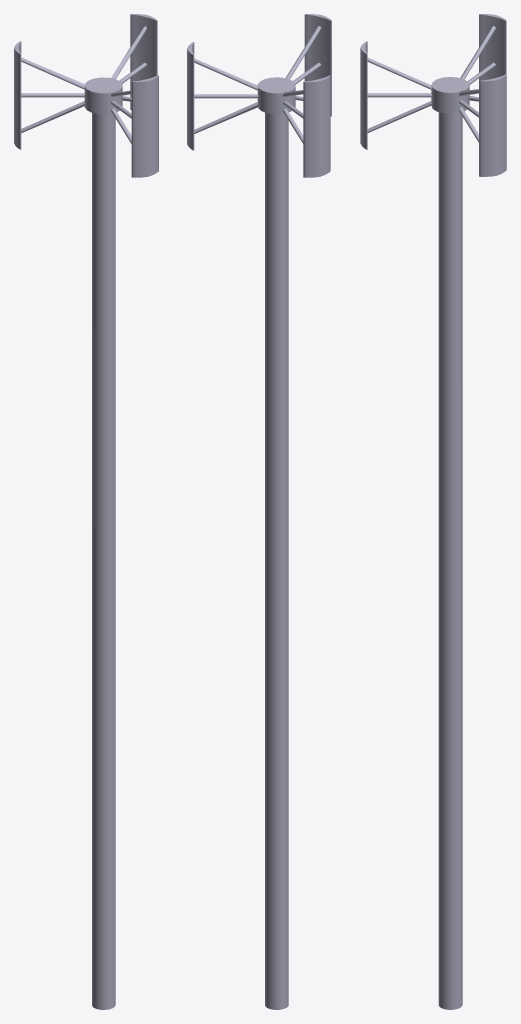
File: 5G-Tower-AllOne.fbx
3 views of the same model, side by side, from view 1: azimuth 30°, elevation 25°; view 2: azimuth 150°, elevation 25°; view 3: azimuth 270°, elevation 25° (orthographic).
Parts seen in each view (by area): view 1: 円柱.003; view 2: 円柱.003; view 3: 円柱.003.
Part boxes in pixels (x1,y1,x2,y2): 円柱.003: (14, 14, 158, 1009); 円柱.003: (187, 14, 331, 1009); 円柱.003: (360, 14, 506, 1009).
Bounding box in the file's own units: 159 × 1053 × 146.
